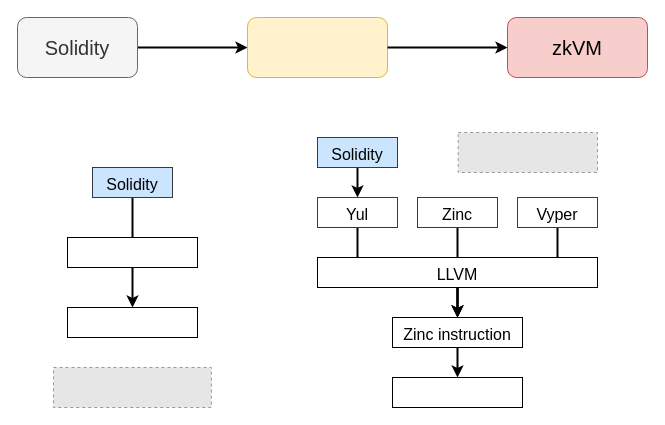
Some shapes in this 665 by 425 pixel diagram are drawn without their labels. Grey dashed boxes stand in for pictures. Each missing label, with the centre of its shape:
Cairo assembly: the point at 132,252
Cairo zkVM: the point at 132,322
Zinc & Cairo: the point at 317,47
Zinc zkVM: the point at 457,392
